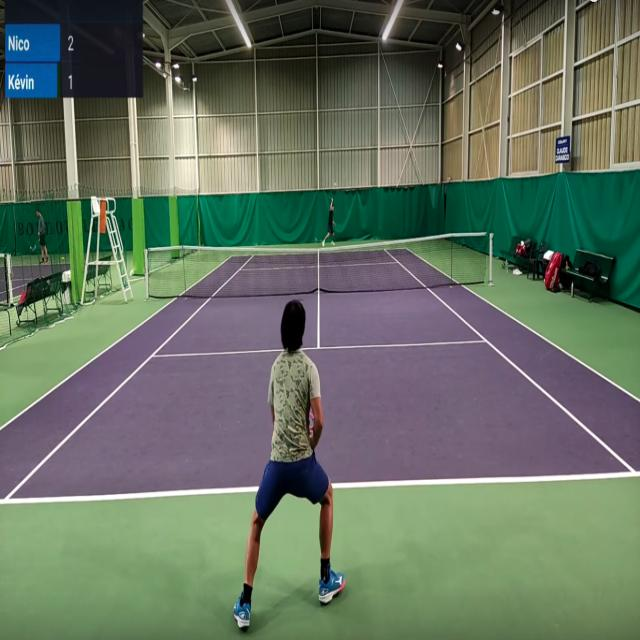ball: (334, 182, 337, 186)
